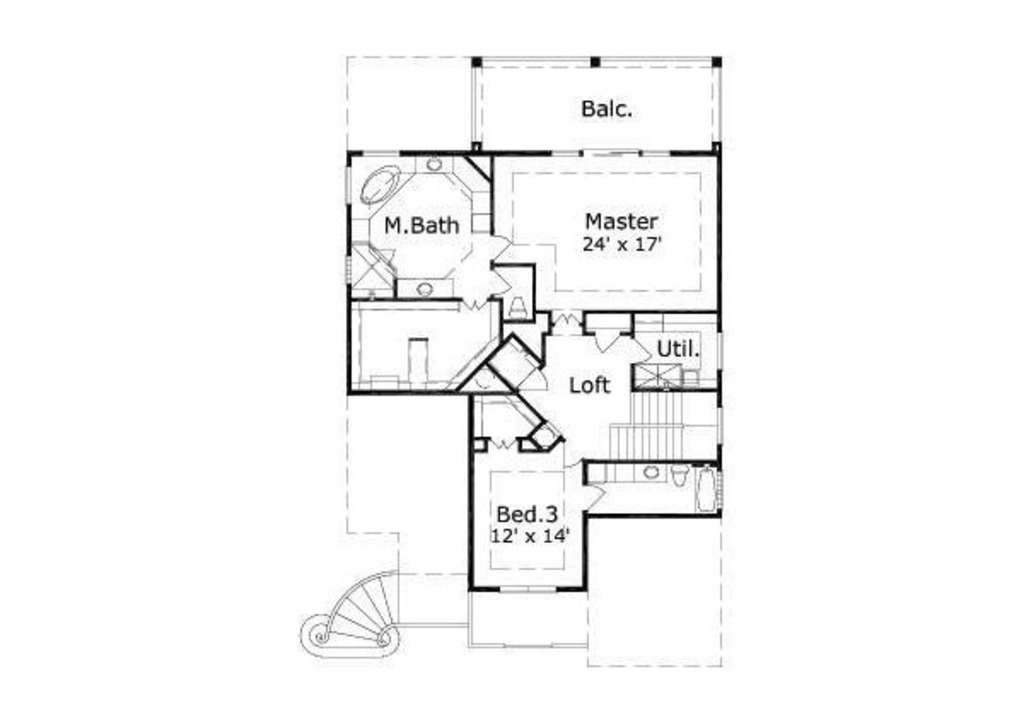door: (513, 369, 557, 396), (589, 331, 622, 355), (489, 234, 515, 261), (488, 269, 510, 296)
large_sink: (665, 461, 692, 494), (506, 298, 528, 320)
small_sink: (396, 276, 459, 303), (411, 157, 453, 177), (631, 462, 664, 482)
stairs: (294, 565, 402, 662), (600, 389, 718, 459)
tub: (354, 159, 404, 211), (696, 468, 718, 514)
windows: (550, 145, 673, 163), (495, 583, 562, 598)
